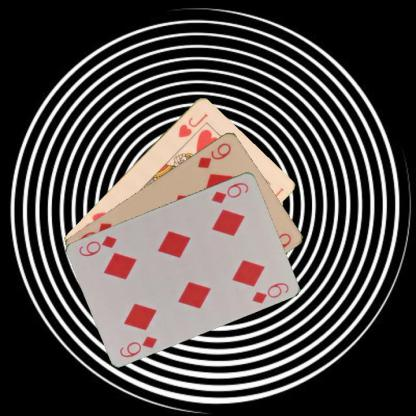6d: (117, 333, 159, 359), (209, 179, 250, 205)
9d: (195, 140, 233, 170)
Jh: (176, 110, 210, 138)
